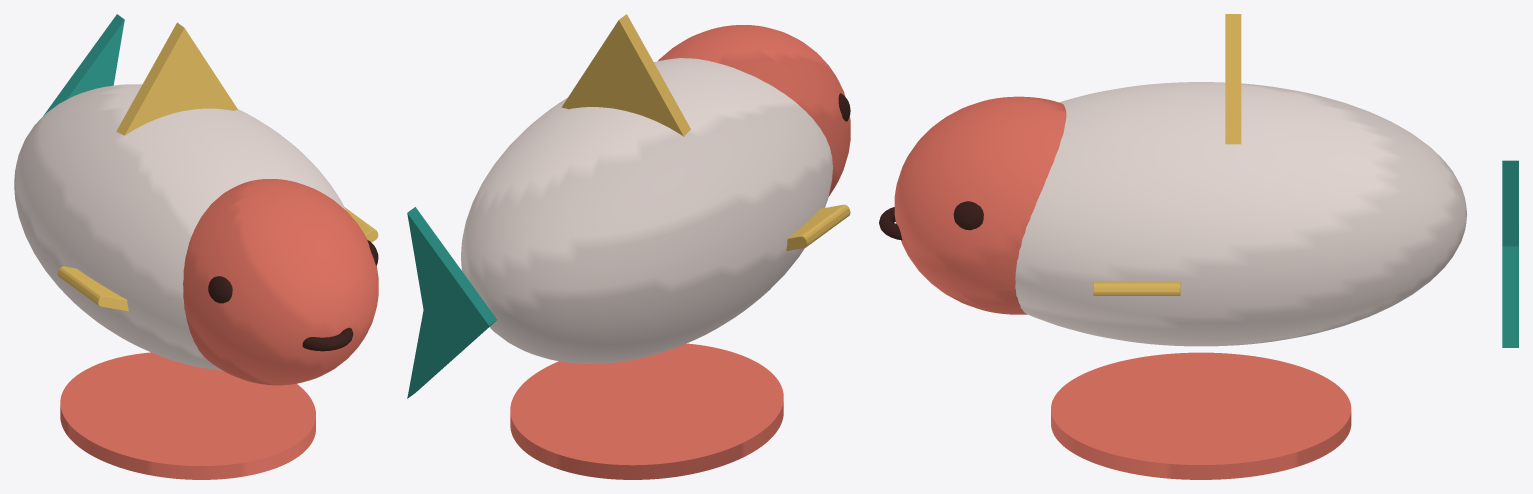
File: 0789_伪装大师图鉴_钝额曲毛蟹.glb
3 renders of one model, left to right at view 1: azimuth 30°, elevation 25°; view 2: azimuth 150°, elevation 25°; view 3: azimuth 270°, elevation 25°, orthographic. The views are drawn at different scales.
Visible parts, largest first — view 1: card_0789; view 2: card_0789; view 3: card_0789.
Part boxes in pixels (x1,y1,x2,y2): card_0789: (14,14,378,479); card_0789: (407,14,850,479); card_0789: (879,14,1518,479).
Bounding box in the file's own units: 0.7634 × 1 × 1.4.
